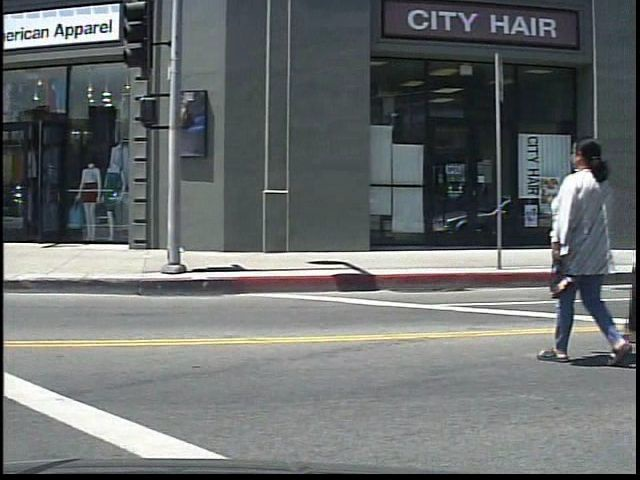person: (543, 119, 629, 369)
